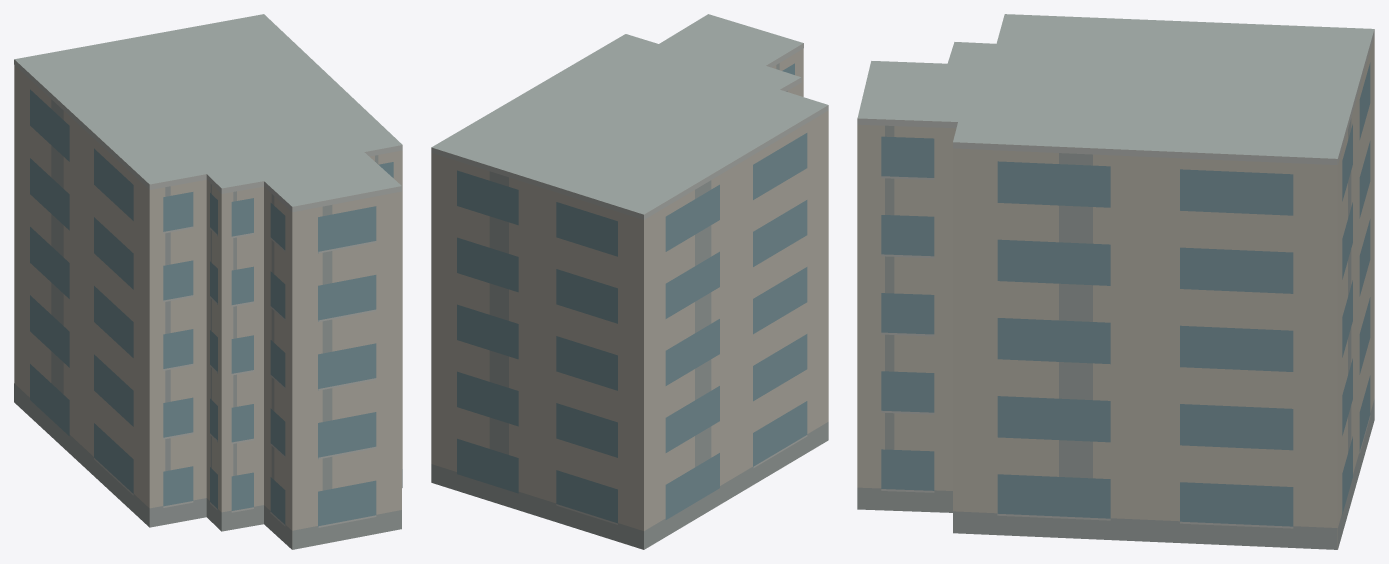
File: survey-upis-32813061.glb
3 renders of one model, left to right at view 1: azimuth 30°, elevation 25°; view 2: azimuth 150°, elevation 25°; view 3: azimuth 270°, elevation 25°, orthographic. The views are drawn at different scales.
Parts seen in each view (by area): view 1: survey-upis-32813061.tmp; view 2: survey-upis-32813061.tmp; view 3: survey-upis-32813061.tmp.
Part boxes in pixels (box(x1,y1,x2,y2)): survey-upis-32813061.tmp: box(14, 14, 402, 549); survey-upis-32813061.tmp: box(431, 14, 828, 549); survey-upis-32813061.tmp: box(857, 14, 1374, 549).
Bounding box in the file's own units: 12.09 × 15.2 × 18.23.
